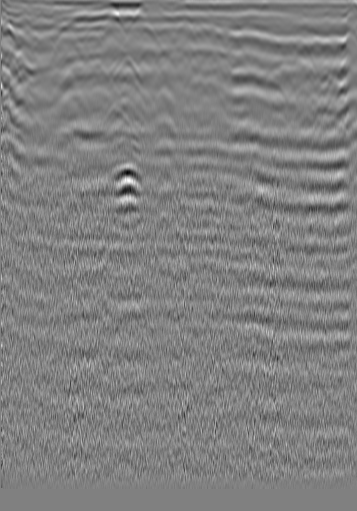가스: (110, 166, 148, 198)
상수: (33, 18, 53, 38)
오수: (293, 14, 313, 34)
우수: (156, 25, 176, 45)
